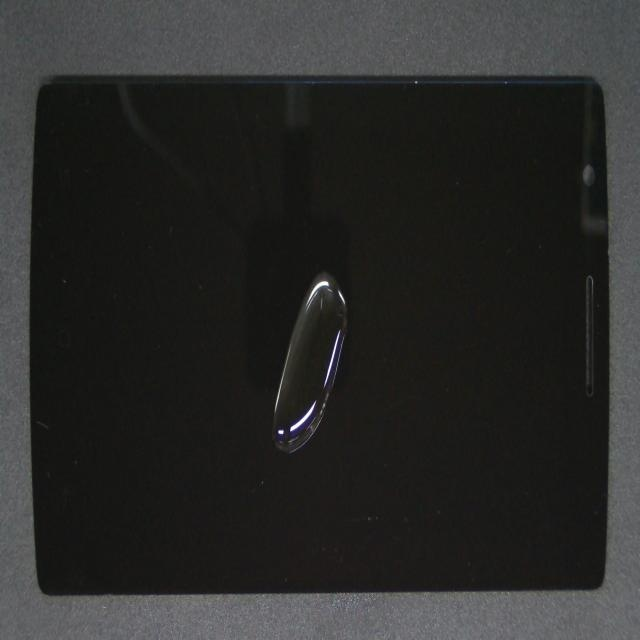oil: (194, 167, 513, 438)
